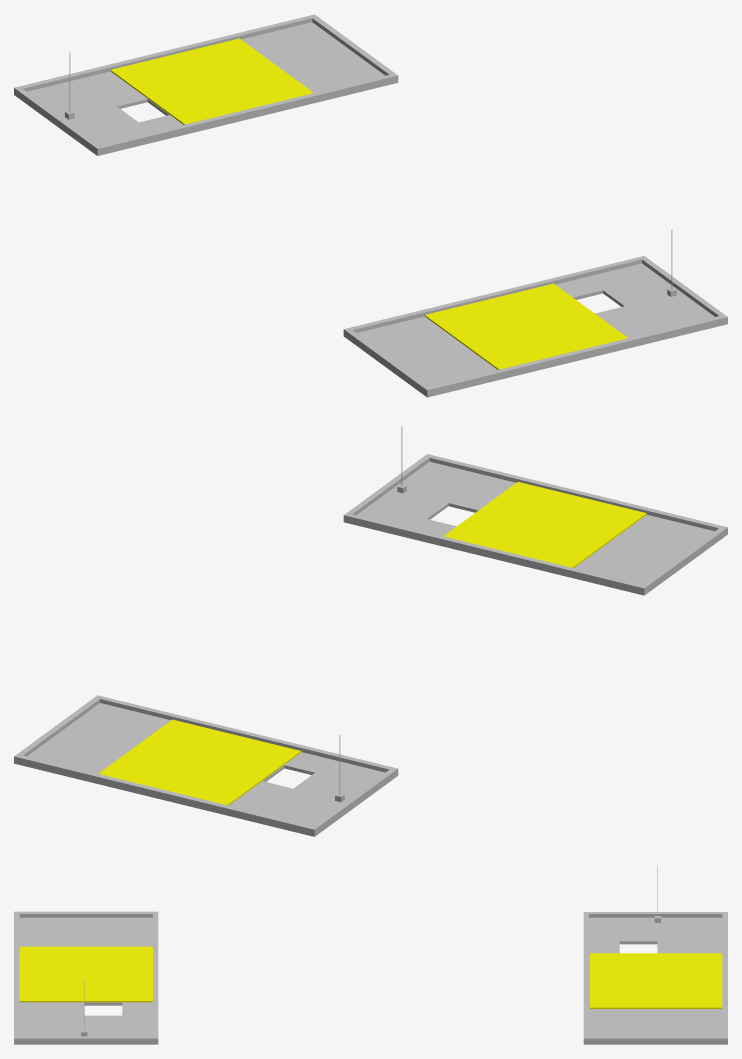
Rendered from sm_hana_building_rf.glb.
3 renders of one model, top to bottom at view 1: azimuth 30°, elevation 25°; view 2: azimuth 150°, elevation 25°; view 3: azimuth 270°, elevation 25°, orthographic. The views are drawn at different scales.
Visible parts, largest first — view 1: sm_hana_building_rf; view 2: sm_hana_building_rf; view 3: sm_hana_building_rf.
Part boxes in pixels (x1=…): sm_hana_building_rf: x1=14, y1=14, x2=727, y2=397; sm_hana_building_rf: x1=14, y1=426, x2=727, y2=836; sm_hana_building_rf: x1=14, y1=865, x2=727, y2=1044.
Bounding box in the file's own units: 29.49 × 6.41 × 70.2.
2 materials, 1 textured.
